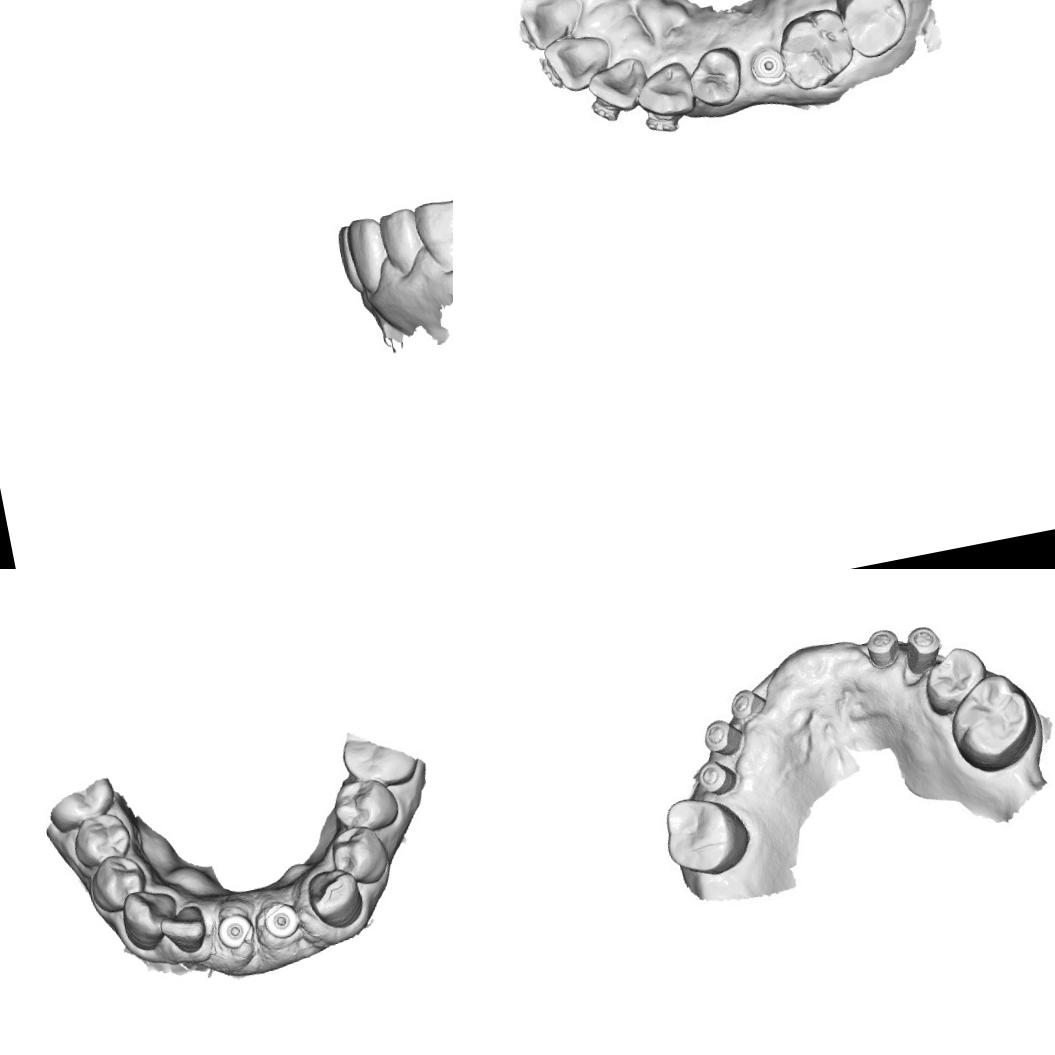canine: (114, 882, 185, 953), (302, 863, 368, 935), (632, 54, 700, 123)
implant: (688, 750, 742, 798), (695, 708, 744, 758), (860, 619, 902, 676), (213, 905, 260, 954), (260, 898, 302, 943), (723, 681, 766, 724), (747, 44, 786, 88), (900, 620, 940, 662)
incisor: (544, 32, 616, 90), (588, 57, 652, 121), (516, 0, 586, 52), (154, 900, 214, 959)
molar: (940, 670, 1044, 778), (660, 787, 756, 881), (776, 8, 856, 91), (66, 805, 135, 870), (838, 0, 910, 57)
premolar: (916, 638, 993, 718), (324, 821, 395, 892), (327, 771, 402, 838), (84, 848, 151, 916), (687, 43, 747, 112)
